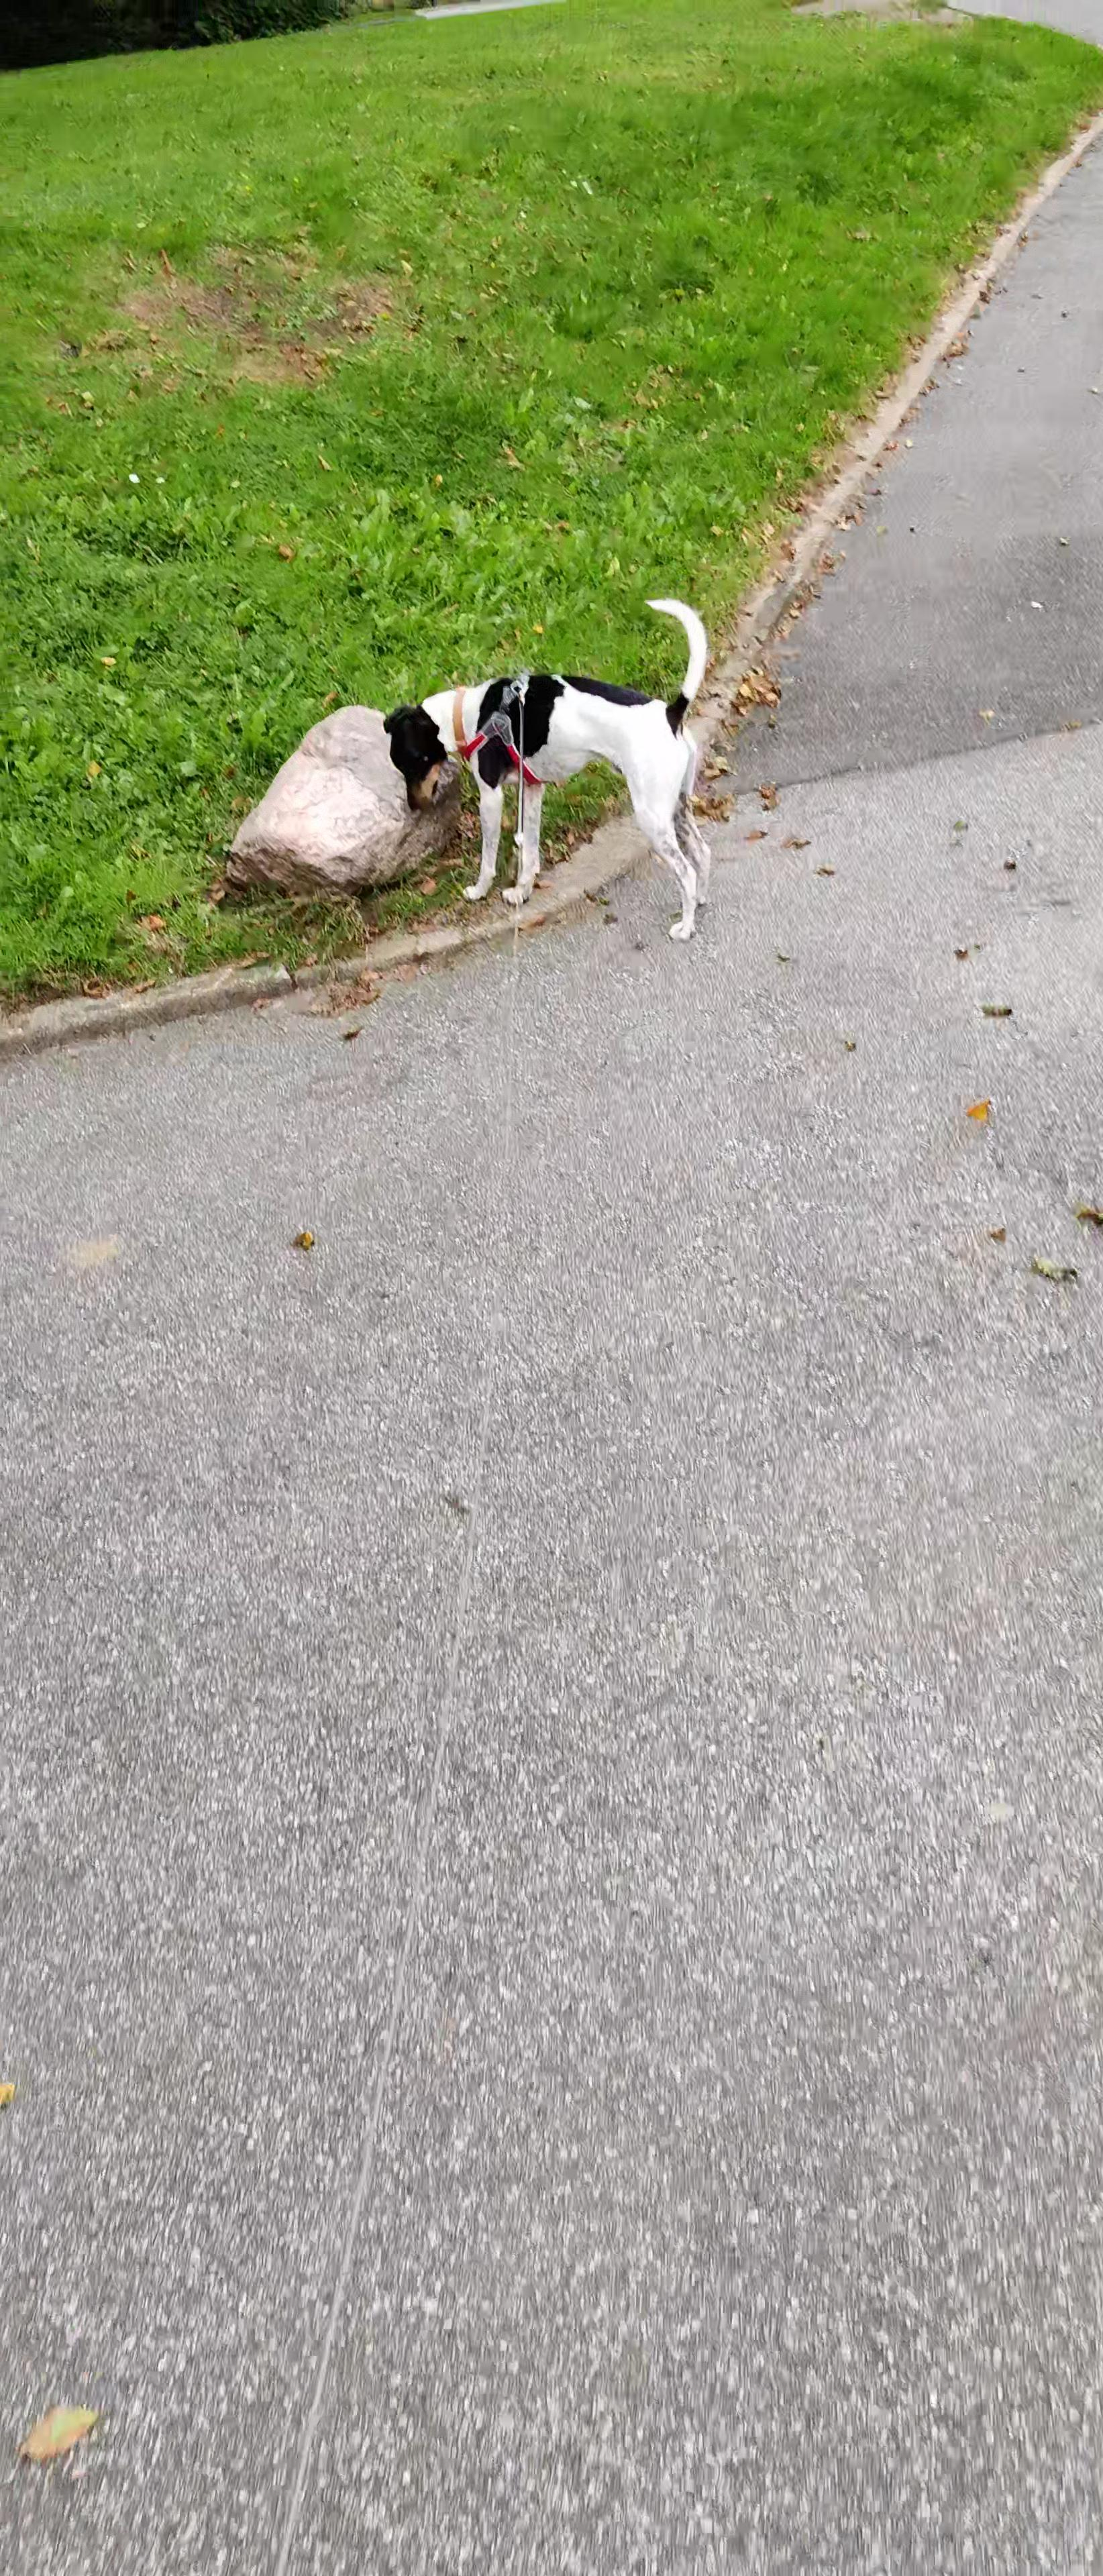Dog: (388, 588, 728, 953)
